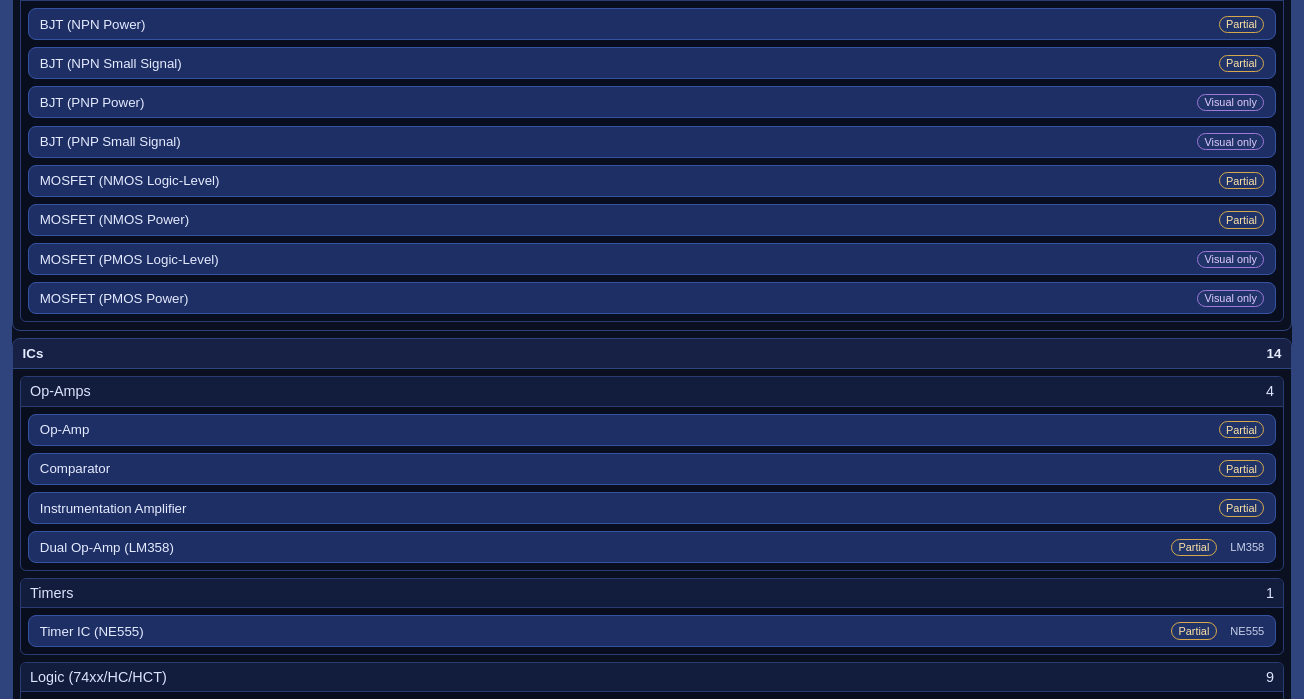
it: ComponentLibrarySidebar › auto-opens matching branches when searching
This screenshot has width=1304, height=699.
(page scrolled)
Click the button "ICs 14" at (33, 353), box [13,339,1291,369]
(page scrolled)
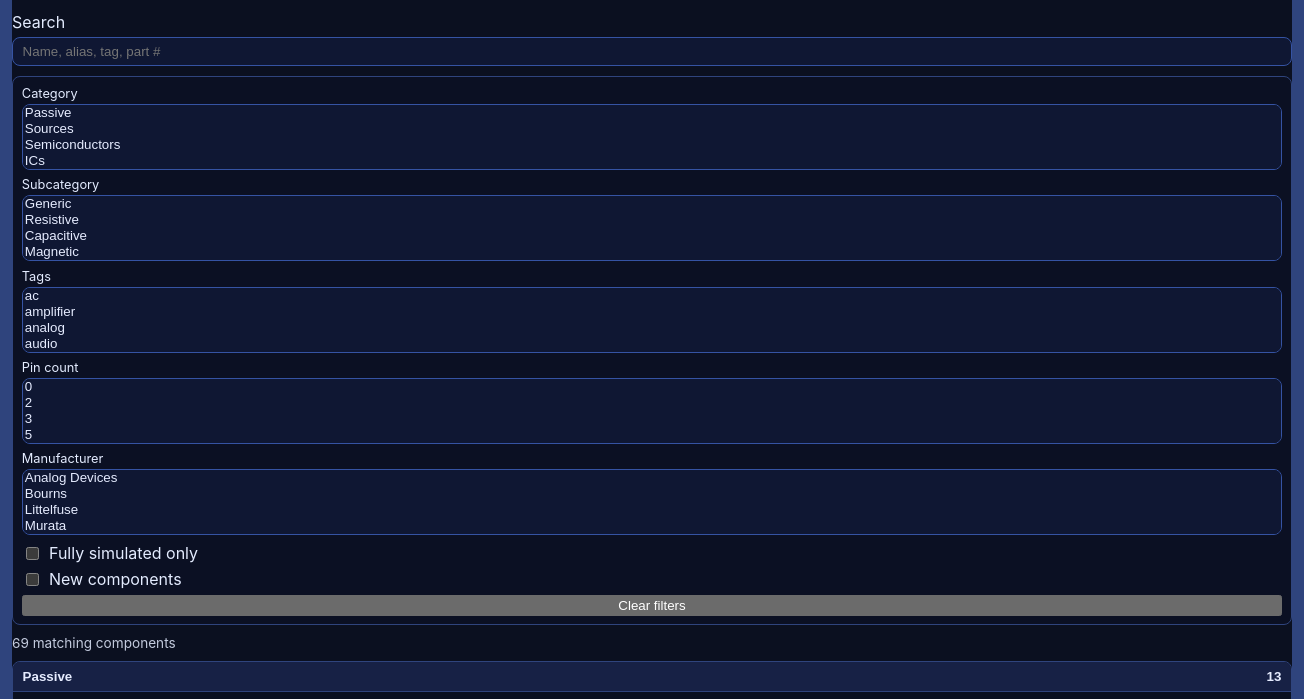
Type "ne555" into the search field with placeholder "Name, alias, tag, part #" at (652, 52), box [12,37,1292,66]
(page scrolled)
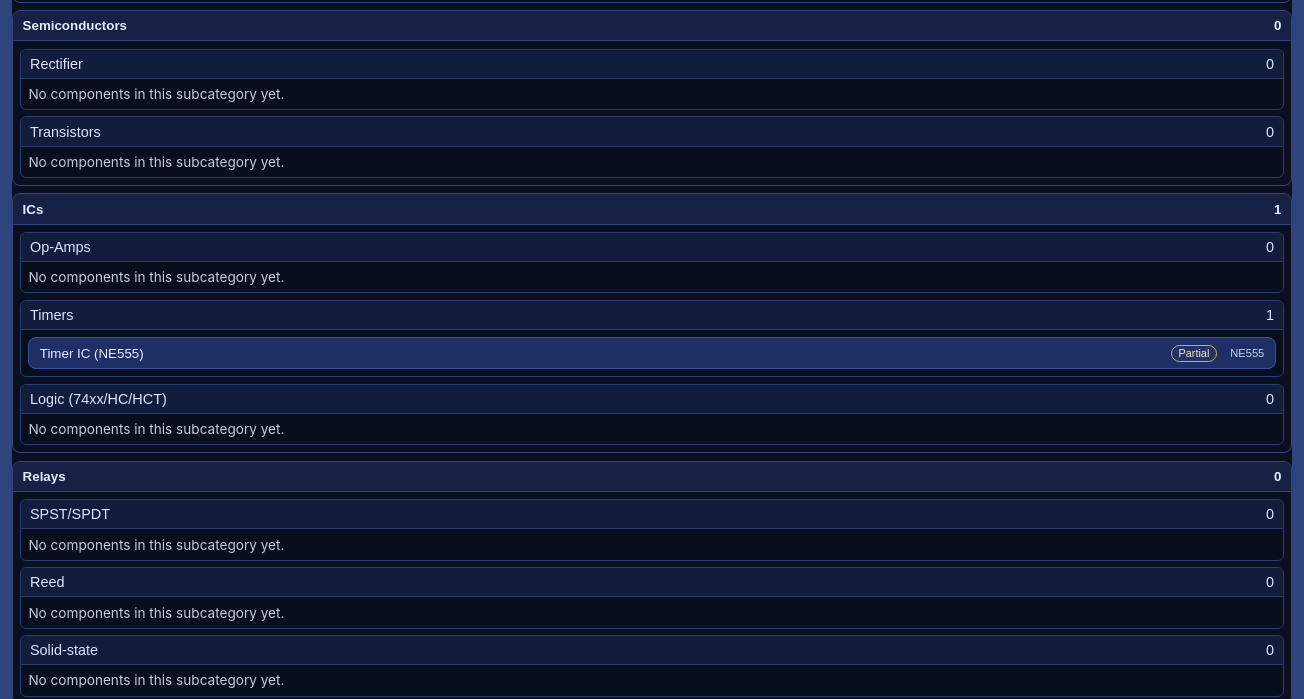
Now the button named "ICs1" is expanded, box [13,194,1291,225]
Now the text "Timer IC (NE555)" is shown, box [40,346,144,361]
